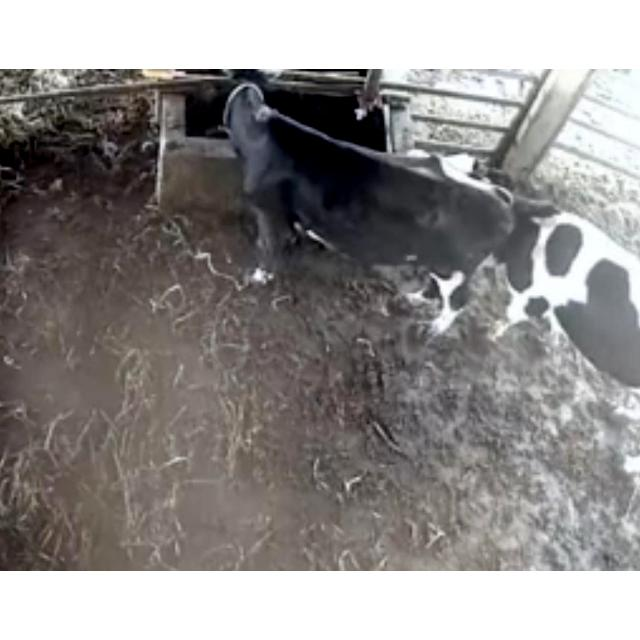drink: (184, 68, 346, 200)
